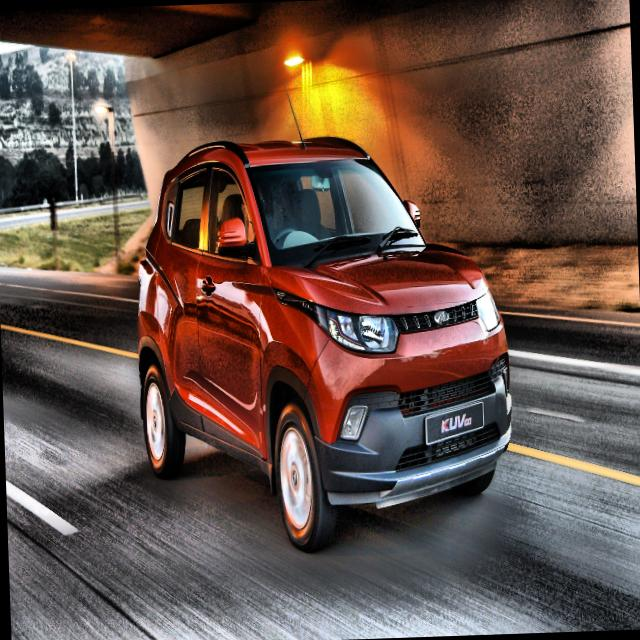Car: (131, 131, 516, 557)
